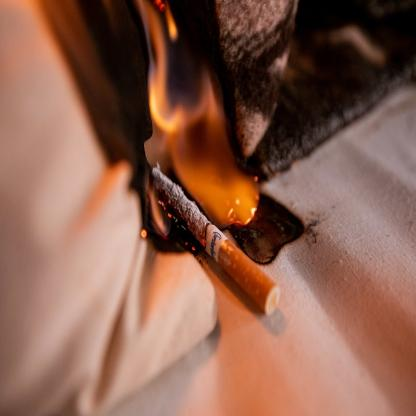fire: (127, 0, 255, 241)
